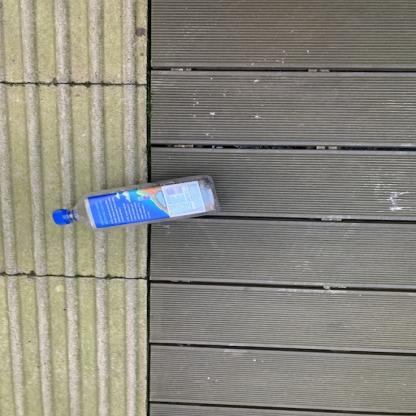trash: (50, 171, 226, 233)
